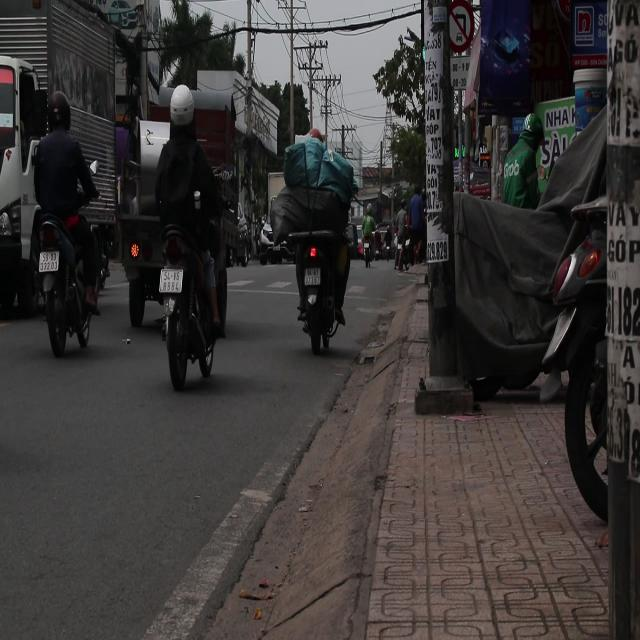motorbike: (142, 185, 224, 392), (24, 181, 100, 366), (288, 228, 348, 354), (357, 228, 380, 284)
truck: (0, 11, 135, 313)
